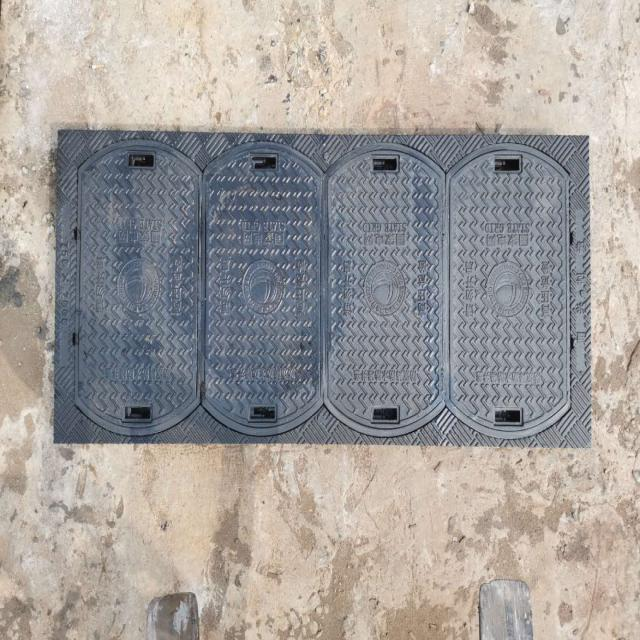manhole: (57, 132, 590, 446)
